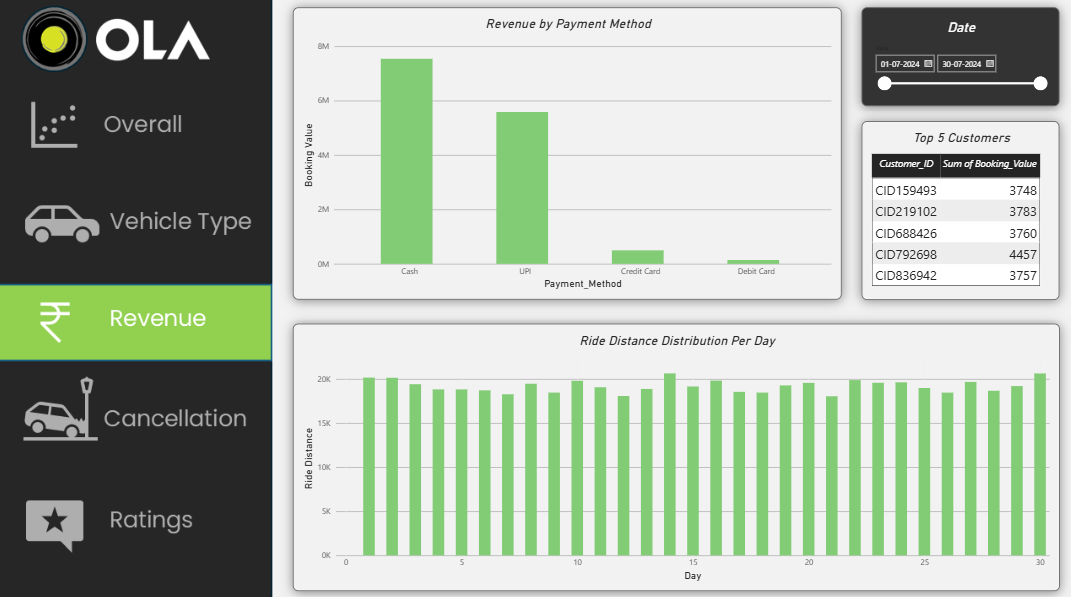

This screenshot's page, from the dashboard's own definition file:
{"tool":"powerbi","page":{"name":"Revenue","canvas":[1920,1080],"ordinal":2},"visuals":[{"type":"actionButton","box":[0,672,486,132],"z":0},{"type":"actionButton","box":[0,170,486,132],"z":1000},{"type":"actionButton","box":[0,332,486,132],"z":2000},{"type":"actionButton","box":[0,874,486,132],"z":3000},{"type":"clusteredColumnChart","title":"Revenue by Payment Method","fields":{"Category":["Bookings40000.Payment_Method"],"Y":["Sum(Bookings40000.Booking_Value)"]},"box":[522,20,976,520],"z":4000},{"type":"clusteredColumnChart","title":"Ride Distance Distribution Per Day","fields":{"Category":["Bookings40000.Date.Variation.Date Hierarchy.Year","Bookings40000.Date.Variation.Date Hierarchy.Quarter","Bookings40000.Date.Variation.Date Hierarchy.Month","Bookings40000.Date.Variation.Date Hierarchy.Day"],"Y":["Sum(Bookings40000.Ride_Distance)"]},"box":[522,582,1364,476],"z":5000},{"type":"slicer","title":"Date","fields":{"Values":["Bookings40000.Date"]},"box":[1534,20,352,176],"z":6000},{"type":"tableEx","title":"Top 5 Customers","fields":{"Values":["Bookings40000.Customer_ID","Sum(Bookings40000.Booking_Value)"]},"box":[1534,222,352,318],"z":7000}]}

Visuals, with their boxes in screenshot pixels (x1, y1, x2, y2), scaled from the page's 1920x1080 canvas onto the 1071x597 screenshot:
actionButton: select_region(0, 371, 271, 444)
actionButton: select_region(0, 94, 271, 167)
actionButton: select_region(0, 184, 271, 256)
actionButton: select_region(0, 483, 271, 556)
"Revenue by Payment Method" clusteredColumnChart: select_region(291, 11, 836, 298)
"Ride Distance Distribution Per Day" clusteredColumnChart: select_region(291, 322, 1052, 585)
"Date" slicer: select_region(856, 11, 1052, 108)
"Top 5 Customers" tableEx: select_region(856, 123, 1052, 298)
